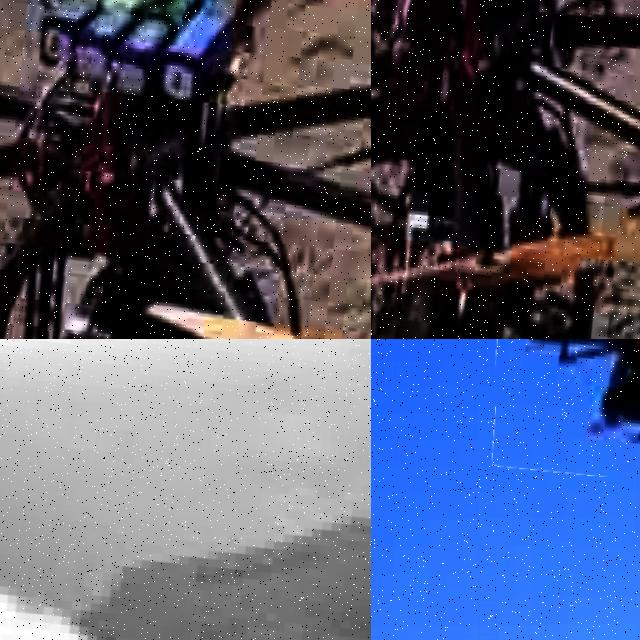0: (0, 0, 371, 339), (371, 0, 640, 339), (492, 339, 640, 478)
drone: (0, 339, 371, 640)
